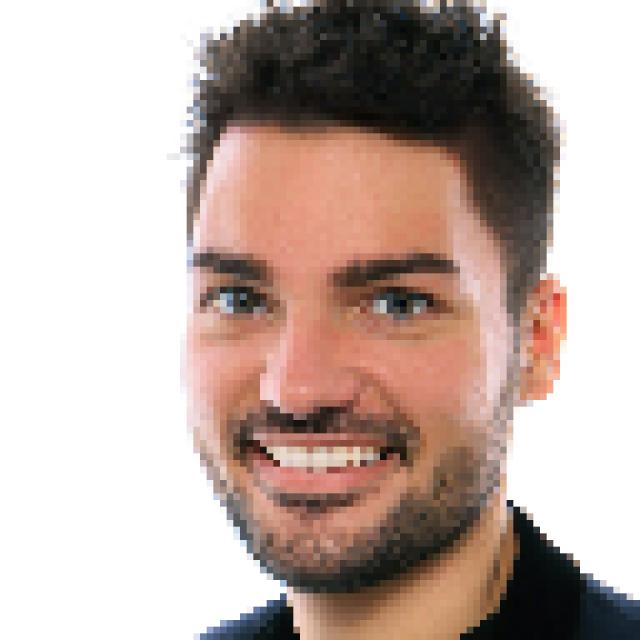happy: (170, 50, 525, 619)
